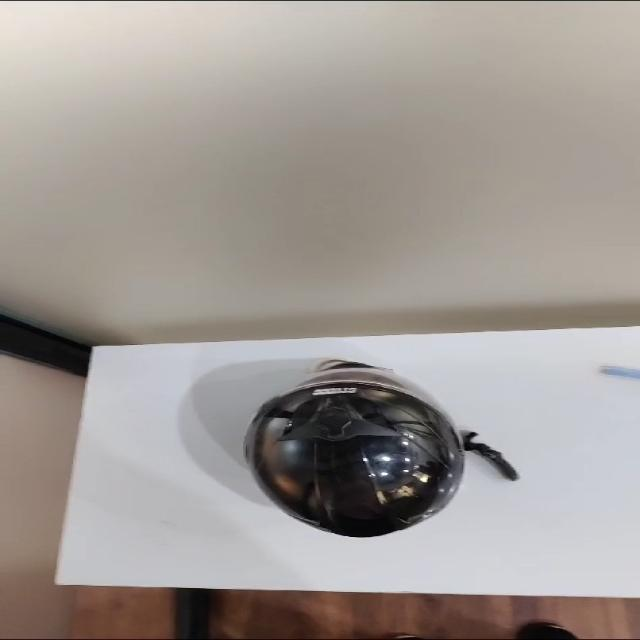helmet: (244, 360, 517, 535)
